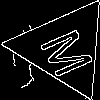M: (39, 23, 100, 80)
